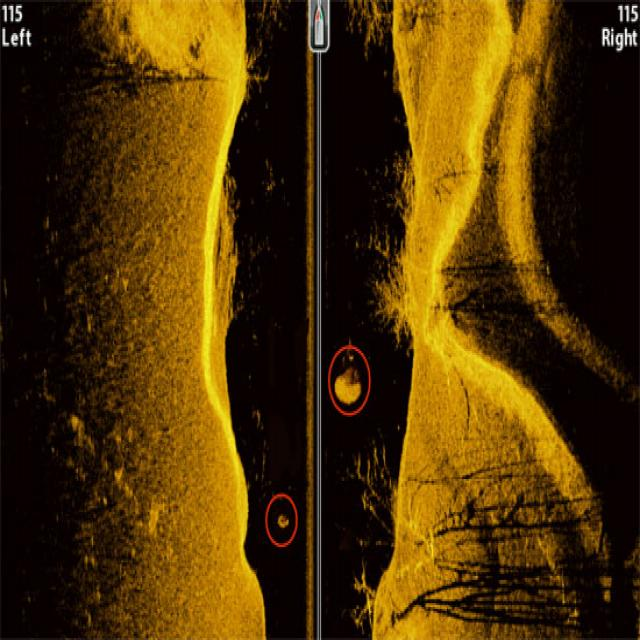fish: (333, 365, 361, 409), (276, 508, 288, 532)
